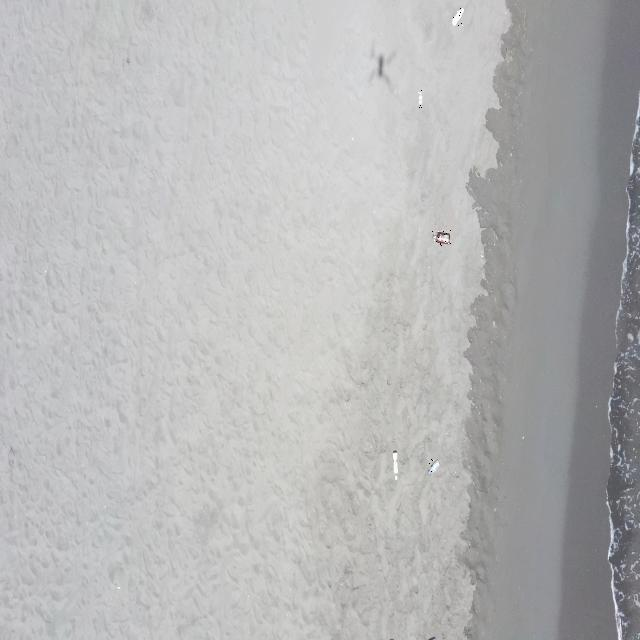plastic-bottle: (432, 230, 451, 247), (452, 6, 465, 26), (428, 460, 441, 476), (392, 451, 399, 480), (417, 90, 424, 109)
